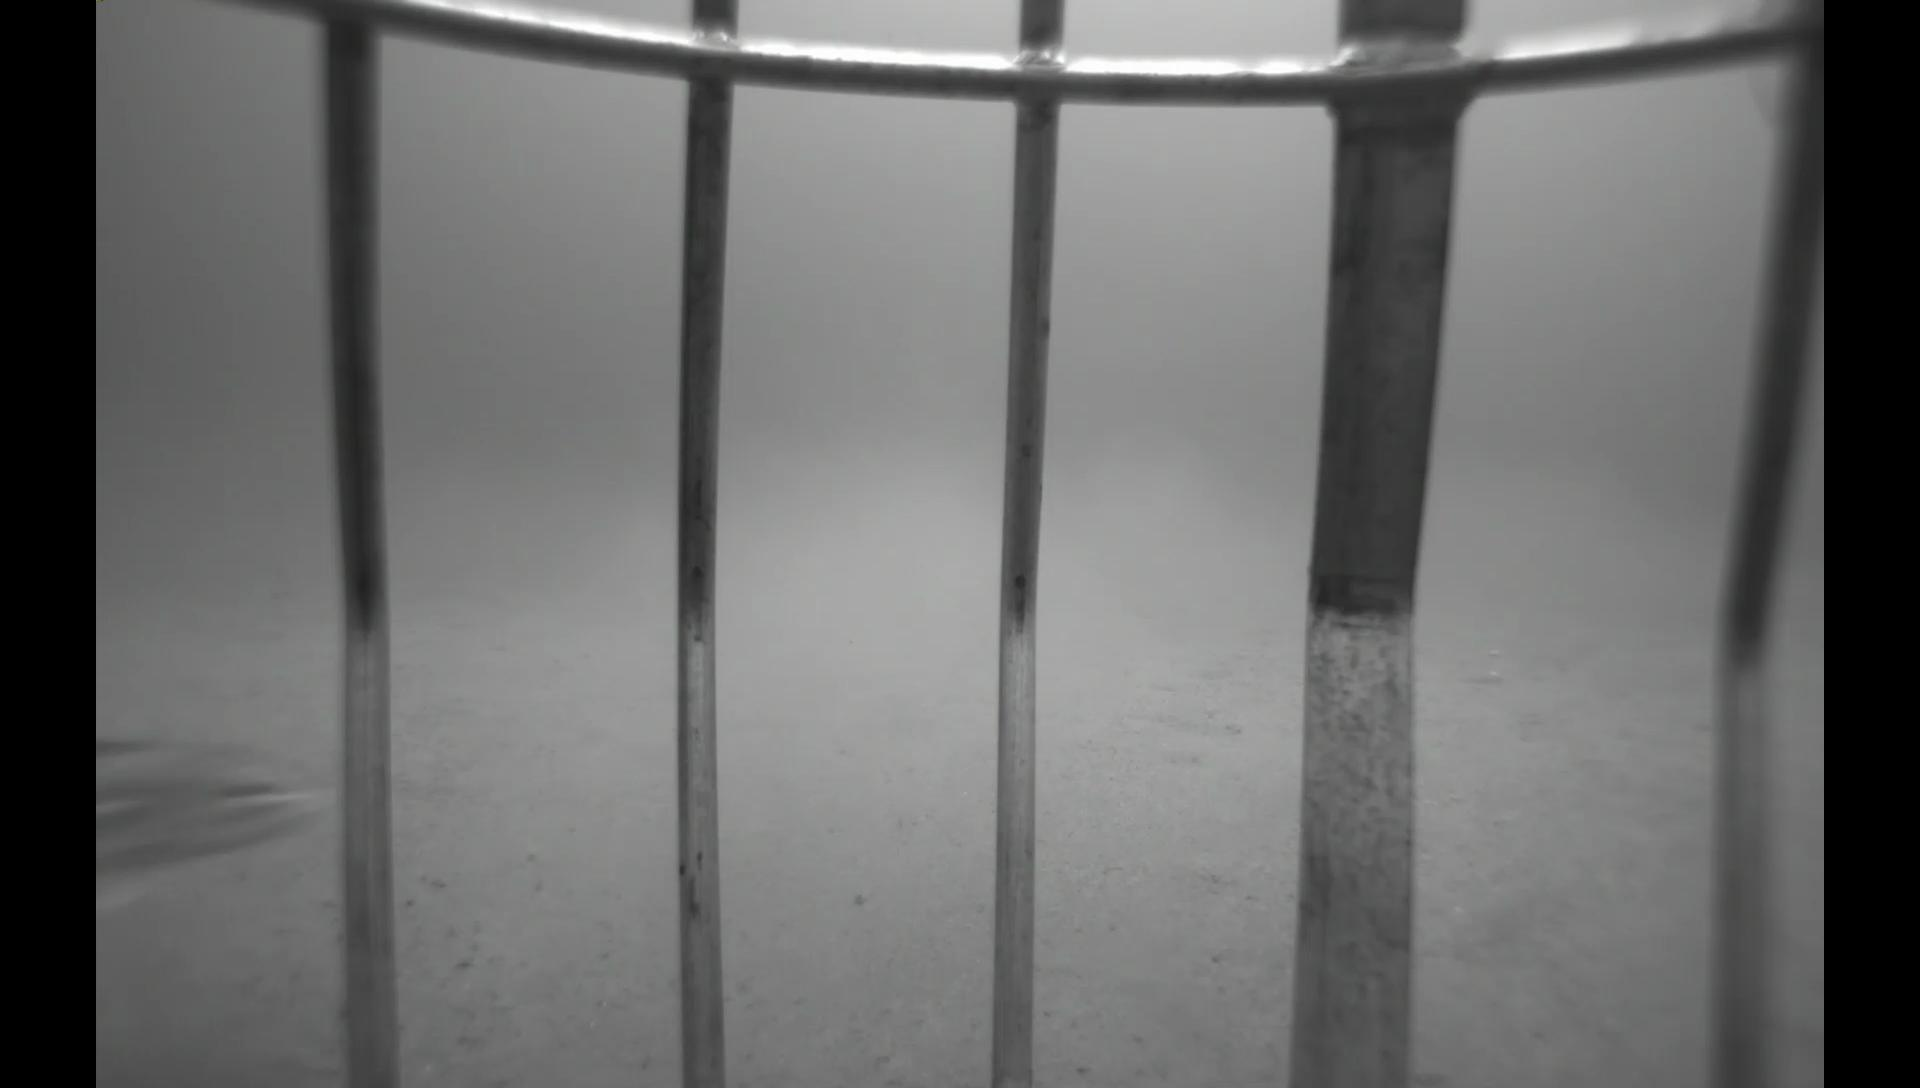CAULOLATILUSCYANOPS-170070101: (95, 721, 342, 928)
SYACIUM-183011000: (1143, 699, 1249, 742)
